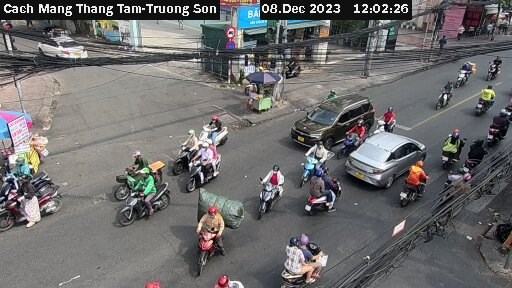car: (289, 91, 377, 146), (347, 127, 427, 183)
motorbike: (174, 199, 245, 269), (3, 187, 71, 242), (268, 221, 324, 282), (109, 171, 176, 218), (300, 169, 353, 222), (104, 147, 176, 181), (177, 140, 226, 181), (247, 162, 290, 208), (389, 159, 431, 202), (288, 135, 329, 175), (4, 155, 47, 191), (443, 163, 478, 204), (466, 133, 499, 174), (433, 126, 470, 160), (479, 106, 512, 144), (198, 111, 237, 141), (430, 74, 461, 110), (446, 55, 482, 84), (341, 120, 368, 157), (473, 84, 502, 112), (167, 128, 203, 150), (375, 104, 405, 128), (487, 52, 510, 77)
